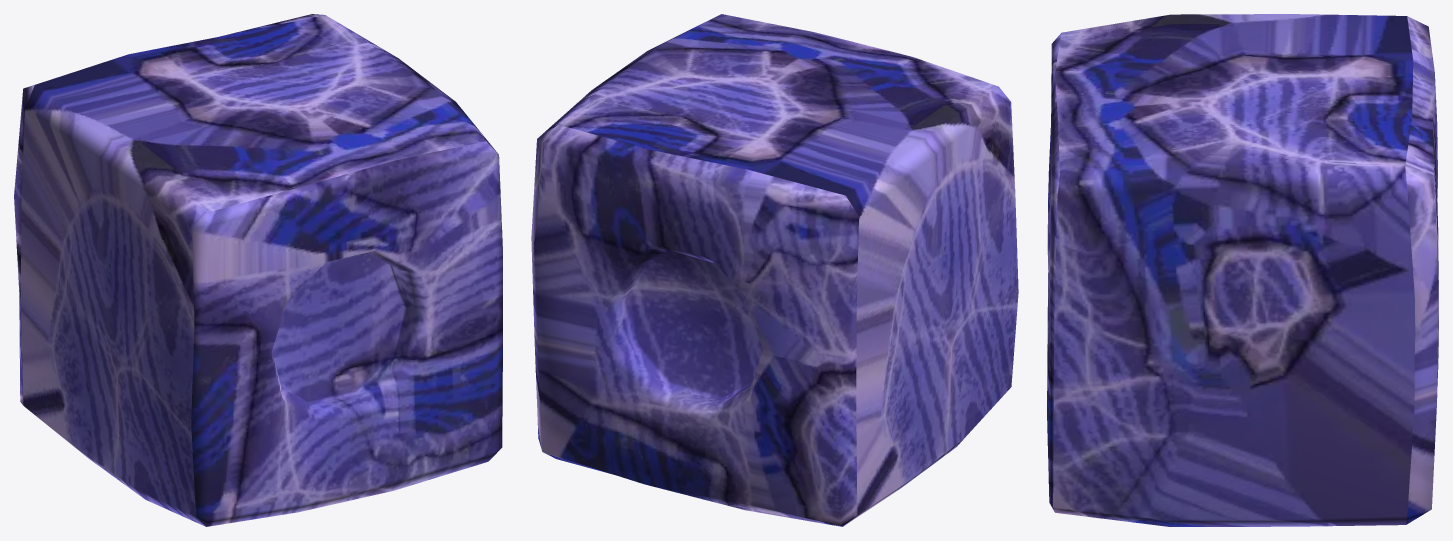
The picture shows the model from 3 angles, left to right: view 1: azimuth 30°, elevation 25°; view 2: azimuth 150°, elevation 25°; view 3: azimuth 270°, elevation 25°; orthographic projection. The views are drawn at different scales.
Visible parts, largest first — view 1: SM_Blurite_Ore_Small_01_LOD0; view 2: SM_Blurite_Ore_Small_01_LOD0; view 3: SM_Blurite_Ore_Small_01_LOD0.
Boxes of the visible parts, bbox=[...] form: SM_Blurite_Ore_Small_01_LOD0: bbox=[14, 14, 502, 526]; SM_Blurite_Ore_Small_01_LOD0: bbox=[531, 14, 1018, 526]; SM_Blurite_Ore_Small_01_LOD0: bbox=[1047, 14, 1438, 526].
Size of the model in its own units: 0.2565 by 0.2582 by 0.2511.
